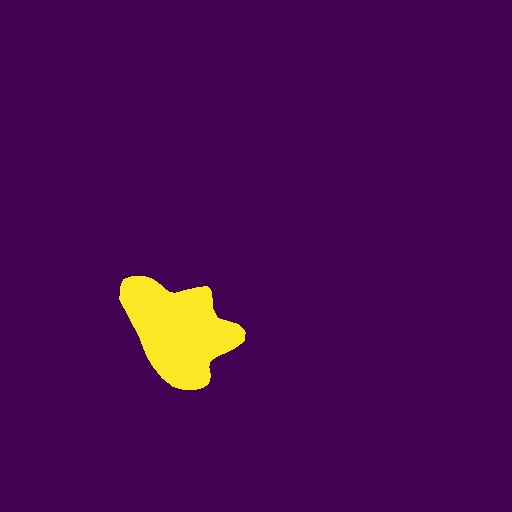Gliomia_tumour: (119, 276, 246, 390)
